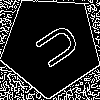U: (25, 20, 82, 76)
